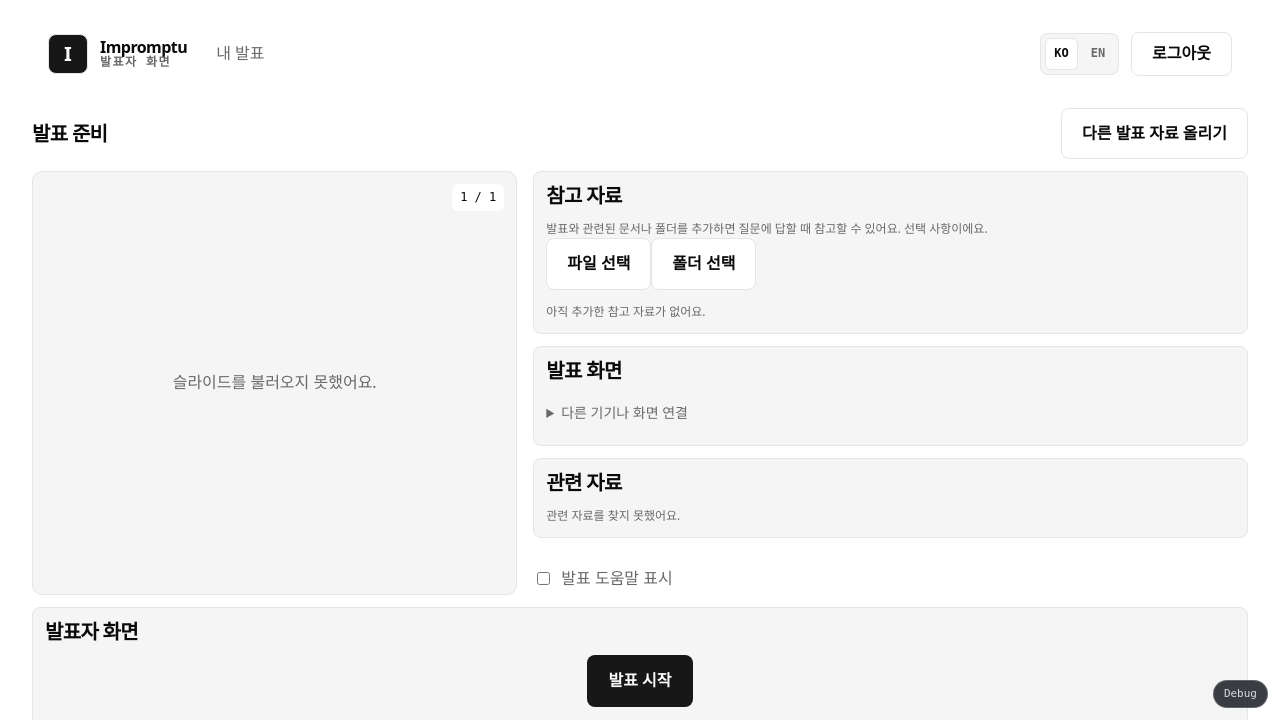
Test: Cockpit rail phases › folds reference material away and promotes prepared evidence after start
The width and height of the screenshot is (1280, 720).
Click the button "발표 시작": [640, 681] box x1=588 y1=655 x2=692 y2=707
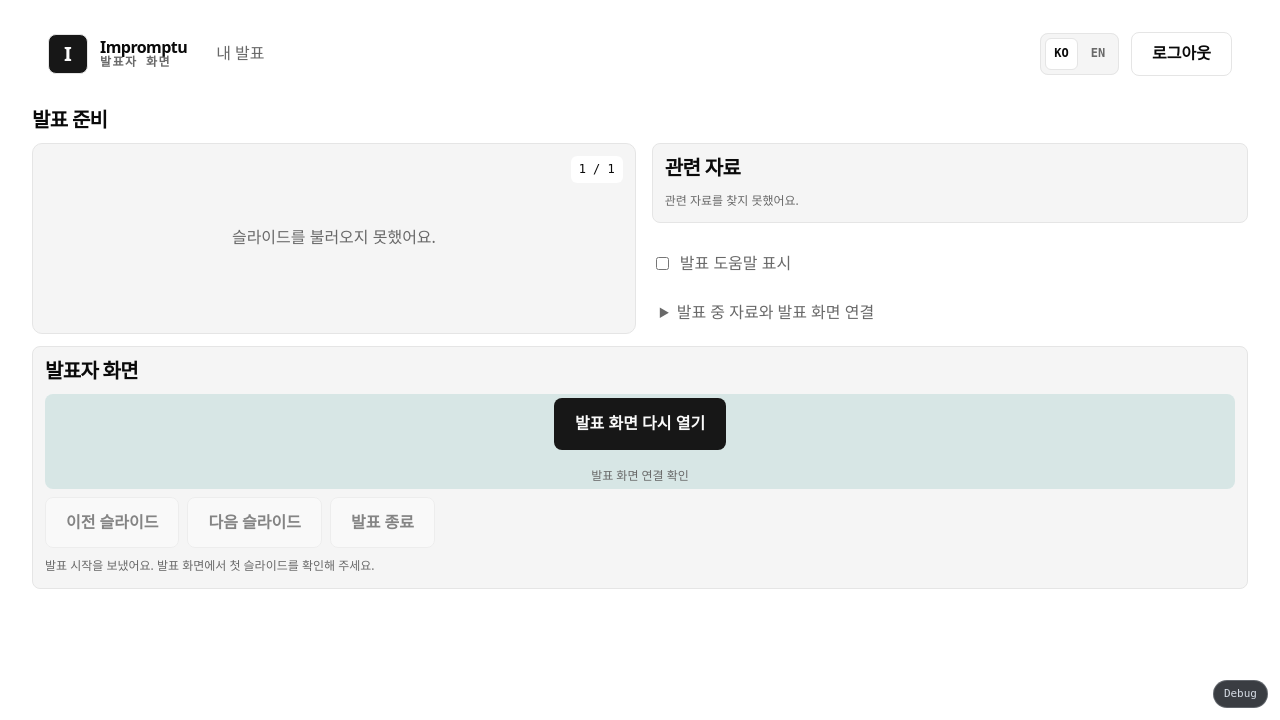
Expected: the element showing "발표 화면 다시 열기 발표 화면 연결 확인" is shown, x1=45 y1=394 x2=1235 y2=489
Result: the element with class "console-preparation-drawer" is shown at x1=677 y1=301 x2=874 y2=323
Result: the element with class "console-reference-documents" is gone
